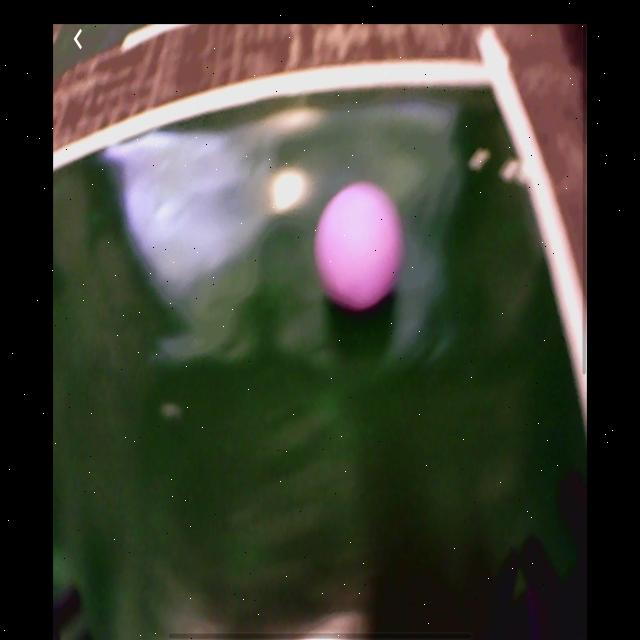ball: (312, 179, 396, 310)
